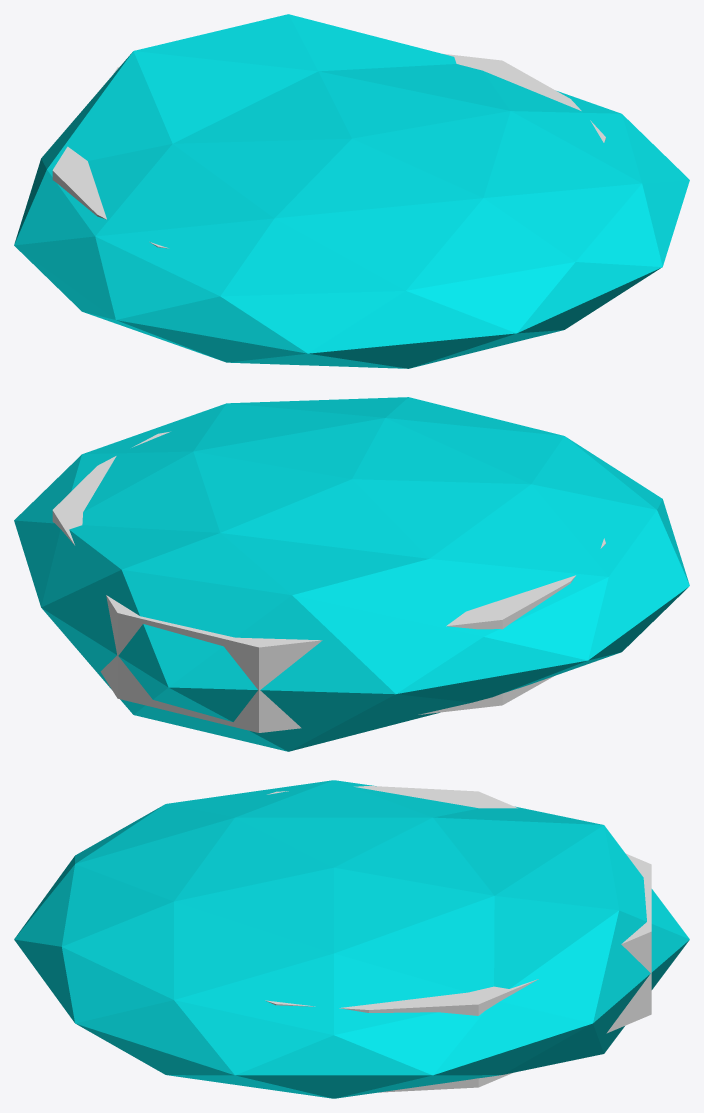
The model's file is Light Enemy Fighter.fbx.
3 renders of one model, top to bottom at view 1: azimuth 30°, elevation 25°; view 2: azimuth 150°, elevation 25°; view 3: azimuth 270°, elevation 25°, orthographic. The views are drawn at different scales.
Visible parts, largest first — view 1: Shield.001, Cube.006; view 2: Shield.001, Cube.006; view 3: Shield.001, Cube.006.
Part boxes in pixels (bbox=[...]): Shield.001: bbox=[14, 14, 689, 368]; Cube.006: bbox=[52, 53, 605, 248]; Shield.001: bbox=[14, 397, 689, 751]; Cube.006: bbox=[52, 431, 605, 732]; Shield.001: bbox=[14, 780, 689, 1098]; Cube.006: bbox=[265, 786, 651, 1092].
Size of the model in its own units: 8.12 by 8.53 by 2.14.
